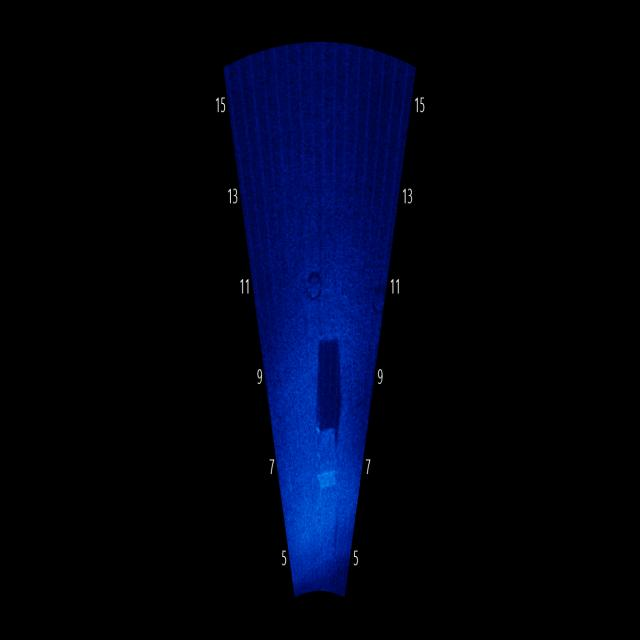square: (315, 402, 350, 501)
